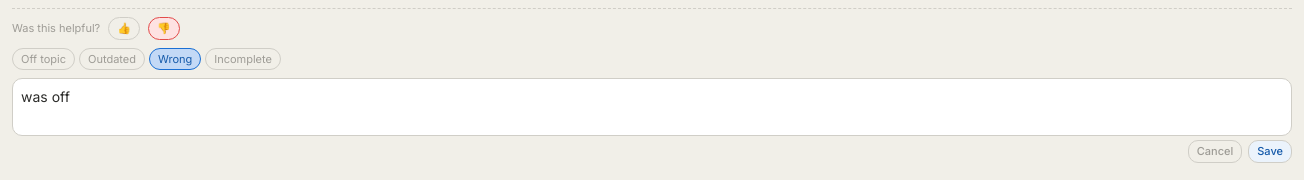
HelpFeedback — thumb interactions › flipping NOT_HELPFUL → HELPFUL clears category + comment in the UI
Note: Click thumb-up — mirror the §3.3 server flip rule client-side.
Click the button with test id "thumb-up".
click(124, 28)  # box [108,17,140,40]
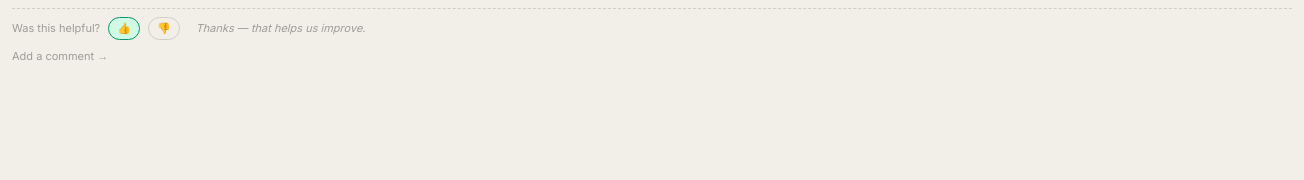
Now the element with test id "category-chips" is gone
